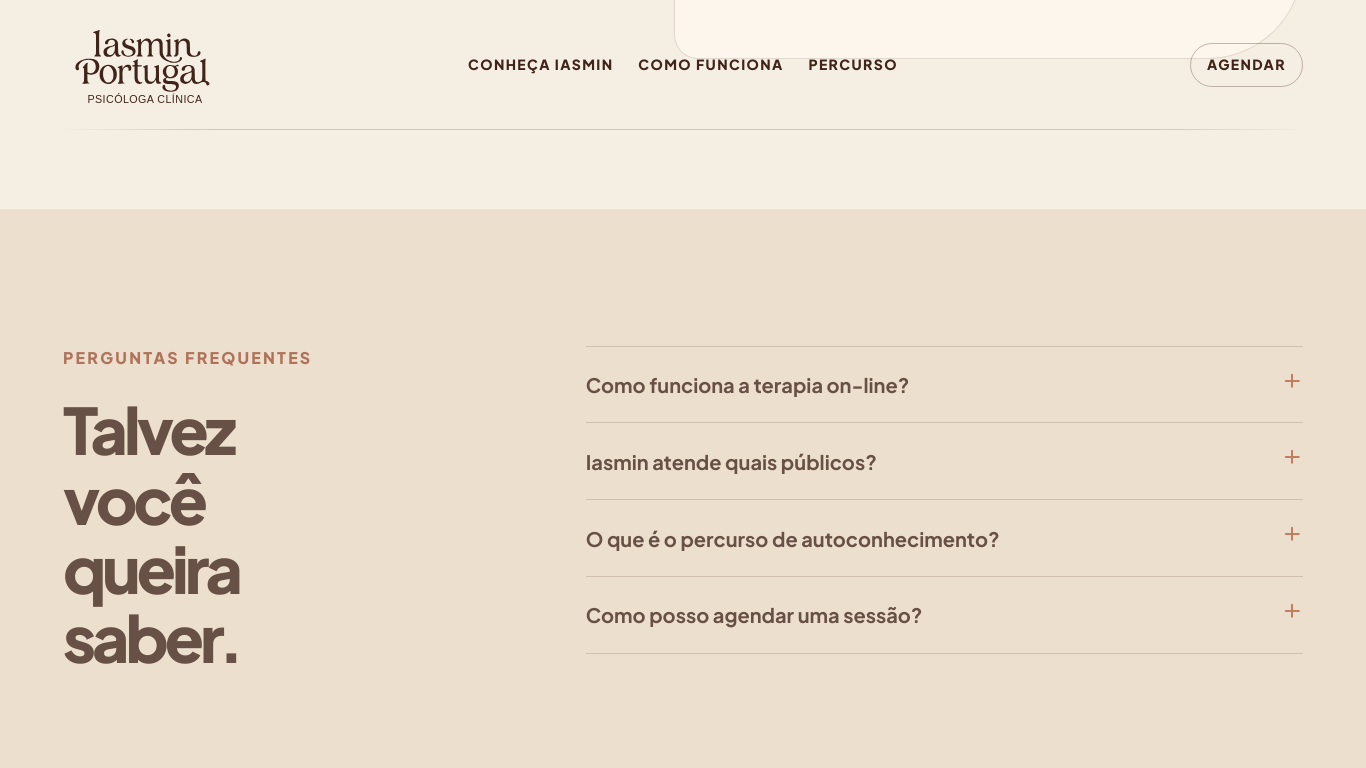
Test: exposes an accessible animated FAQ accordion
(page scrolled)
Click the button "Como funciona a terapia on-line?" at (748, 384), box [586,346,1303,422]
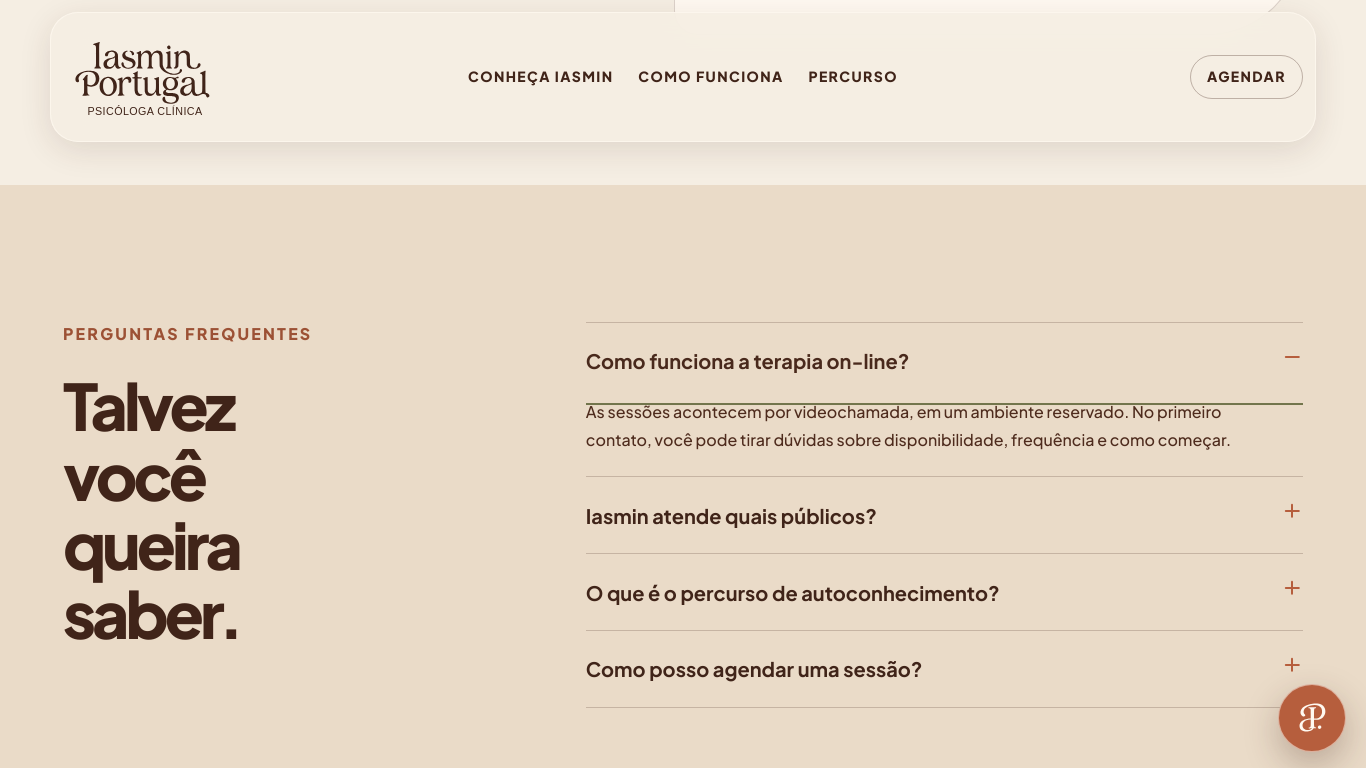
Expected: the button "Como funciona a terapia on-line?" is expanded, [586,323,1303,398]
Expected: the text "As sessões acontecem por videochamada" is shown, [586,401,1231,450]
